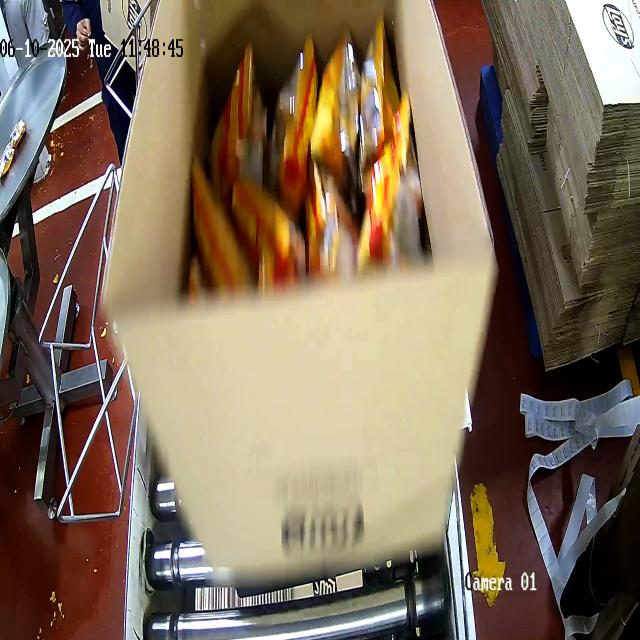FRENCH_CHEESE: (178, 32, 422, 293)
